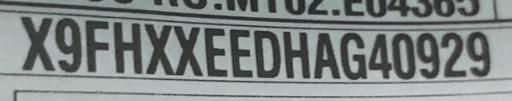letter: (16, 14, 56, 71), (52, 15, 84, 74), (112, 19, 144, 76), (170, 23, 204, 76), (144, 22, 176, 77), (82, 17, 112, 74), (280, 27, 312, 80), (252, 27, 282, 78), (338, 29, 368, 80), (313, 27, 341, 80), (202, 26, 230, 77), (439, 30, 467, 79), (228, 27, 254, 78), (367, 29, 393, 80), (390, 31, 416, 80), (464, 30, 490, 77), (413, 31, 439, 78)
